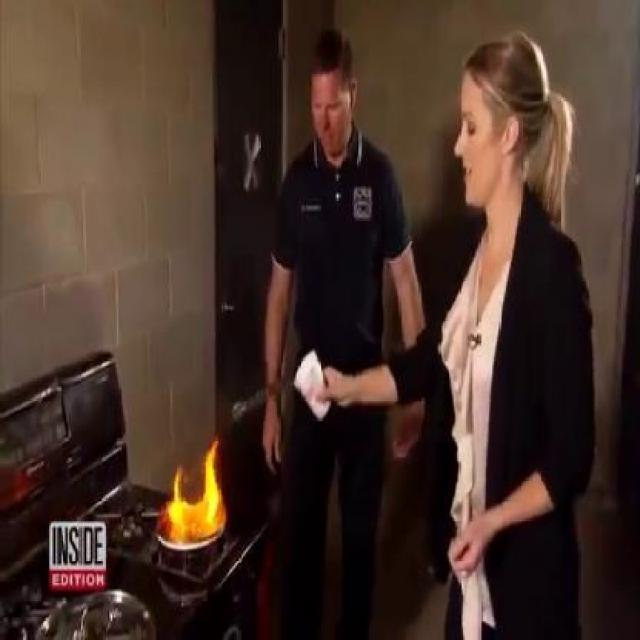fire: (166, 438, 242, 548)
